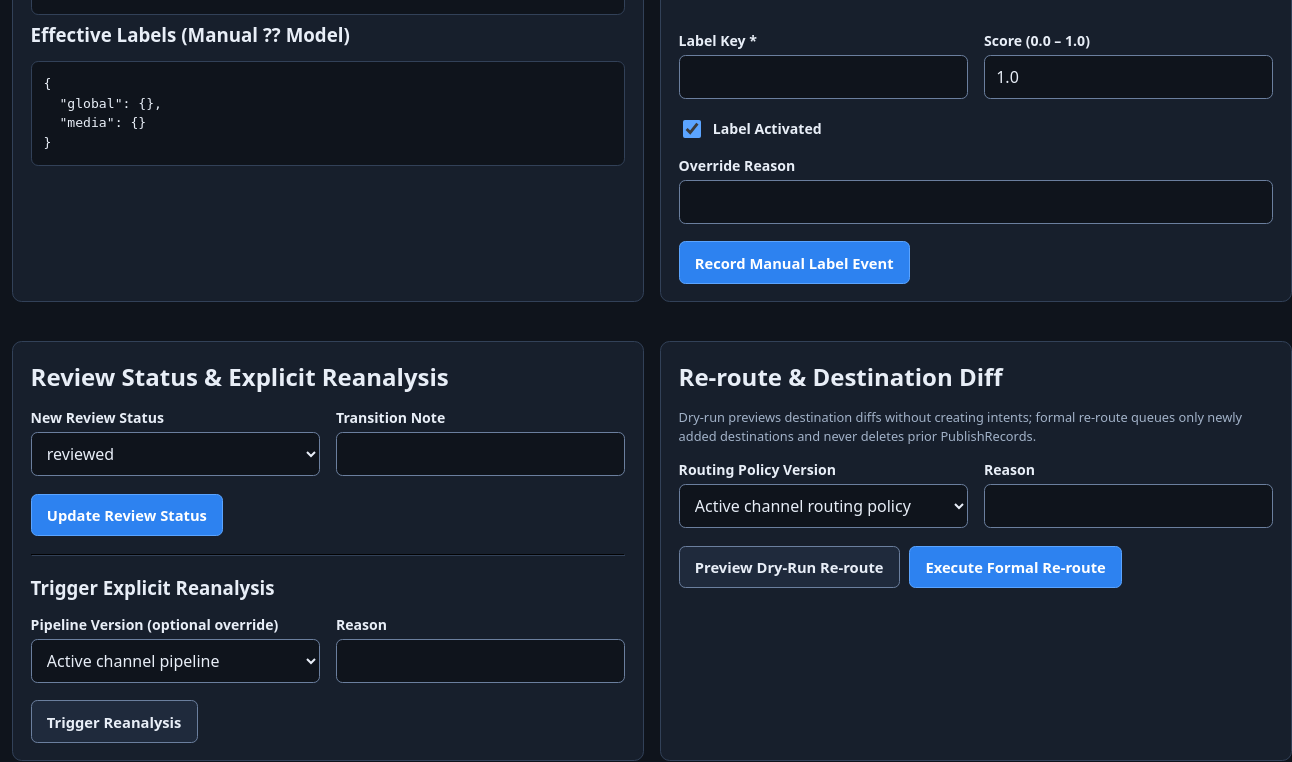
PR30 regressions grounded in current backend serializers/HTTP DTOs › renders the real reroute HTTP DTO without nonexistent comparison fields
(page scrolled)
Click the button "Preview Dry-Run Re-route" at (789, 567), box [679, 546, 900, 588]
(page scrolled)
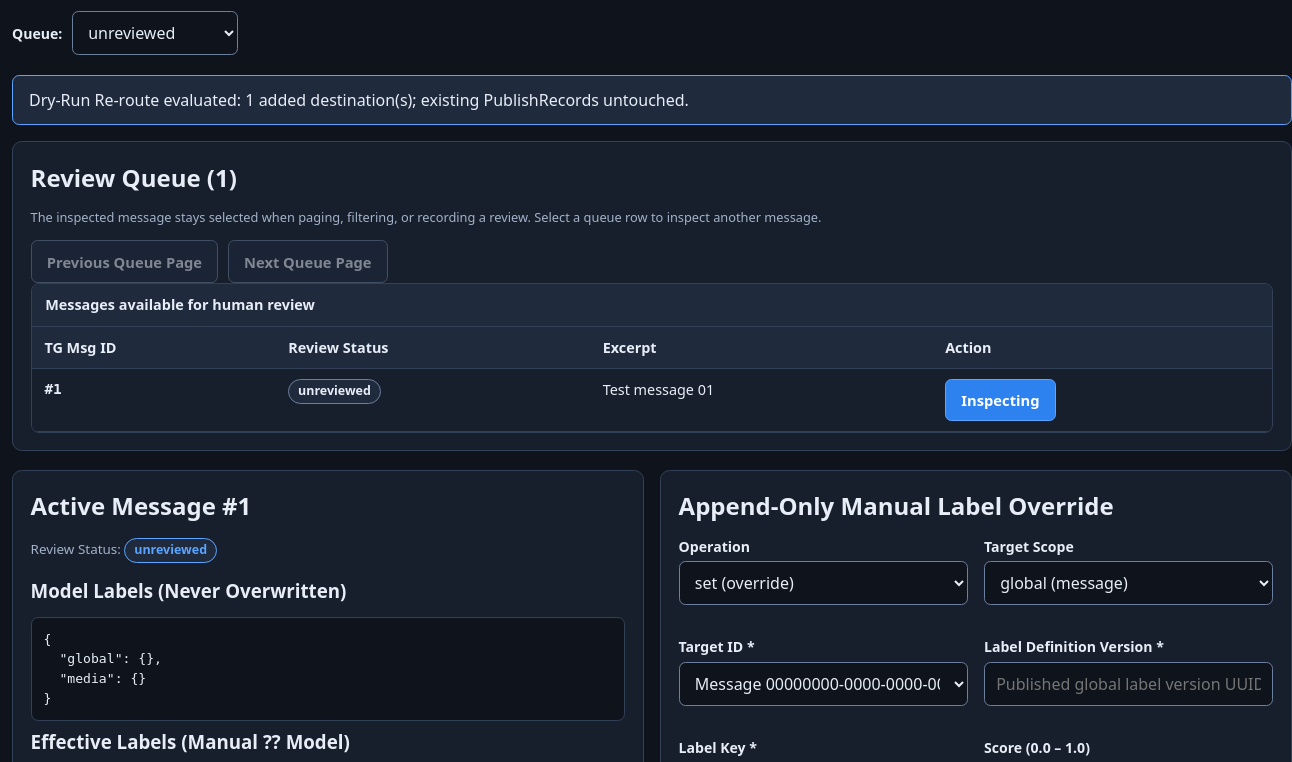
Check: the cell "Test message 01" is shown, box [590, 369, 932, 432]
